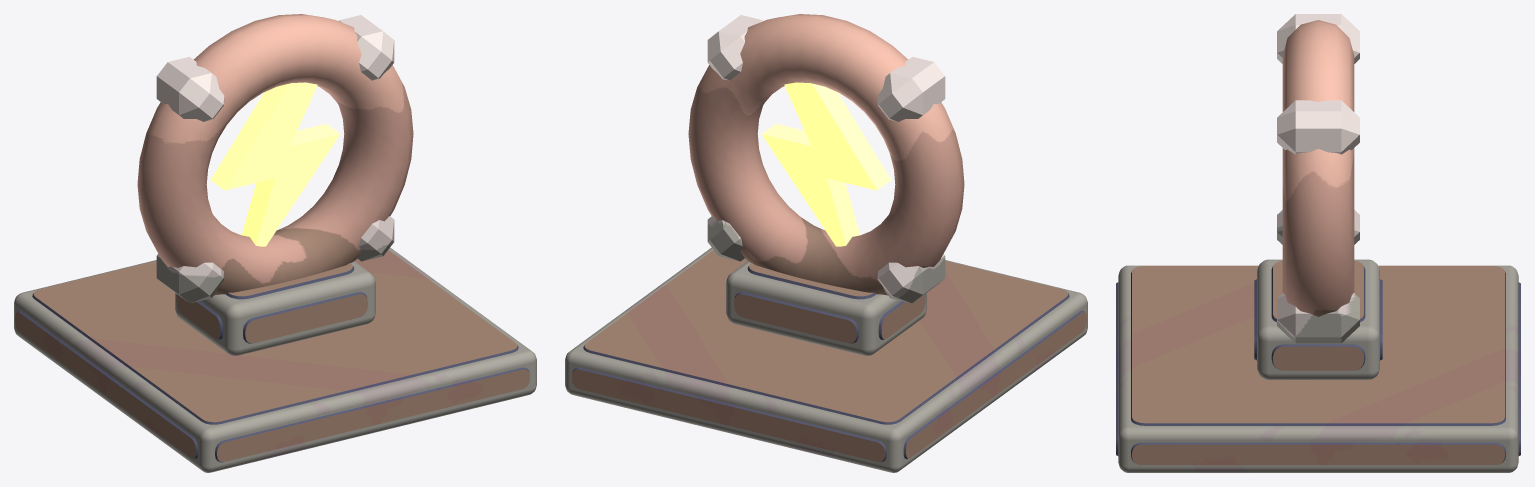
Rendered from R4X_RechargePulse.glb.
The picture shows the model from 3 angles, left to right: view 1: azimuth 30°, elevation 25°; view 2: azimuth 150°, elevation 25°; view 3: azimuth 270°, elevation 25°; orthographic projection. The views are drawn at different scales.
Parts seen in each view (by area): view 1: R4X_RechargePulse_Body; view 2: R4X_RechargePulse_Body; view 3: R4X_RechargePulse_Body.
Boxes of the visible parts, bbox=[...] form: R4X_RechargePulse_Body: bbox=[14, 14, 536, 472]; R4X_RechargePulse_Body: bbox=[565, 14, 1087, 472]; R4X_RechargePulse_Body: bbox=[1116, 14, 1520, 472].
Bounding box in the file's own units: 0.52 × 0.5081 × 0.52.
Materials: 4 (3 with a texture image).
